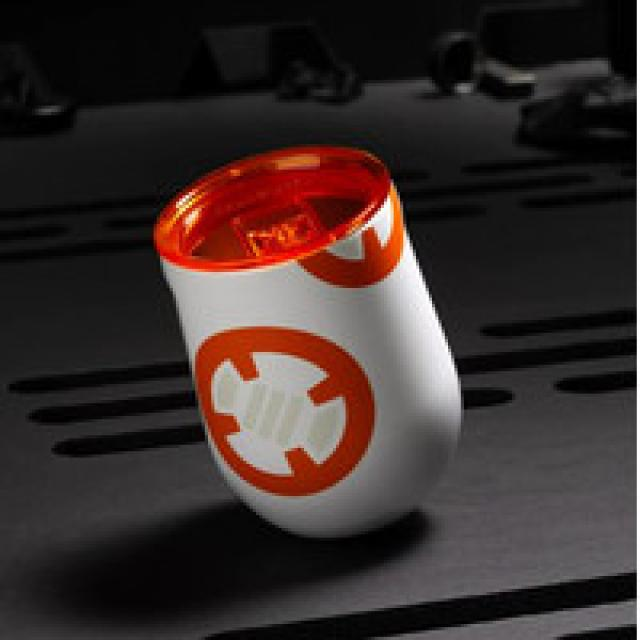bottle: (109, 126, 493, 557)
